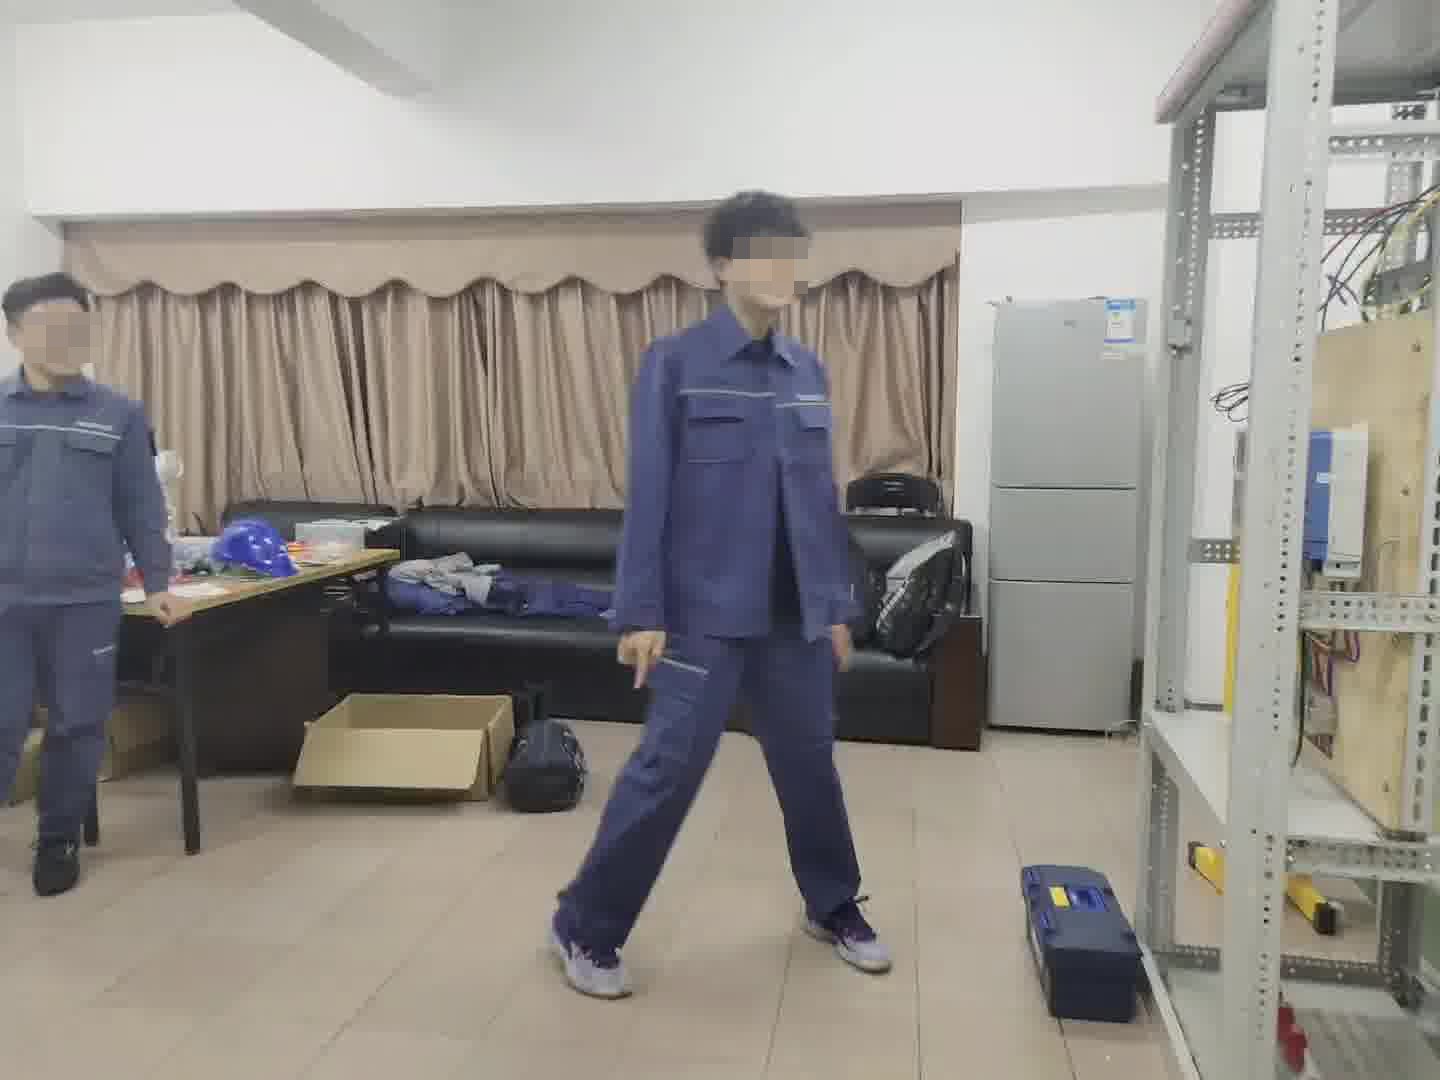downsuit: (566, 654, 869, 939), (1, 622, 119, 857)
hand: (613, 628, 673, 688), (835, 622, 868, 672), (148, 588, 183, 630)
noear: (700, 252, 736, 286), (5, 316, 32, 352)
person: (546, 186, 900, 983), (2, 267, 180, 883)
unhalt: (703, 190, 815, 329), (1, 270, 101, 382)
upsuit: (606, 318, 867, 638), (1, 374, 178, 602)
